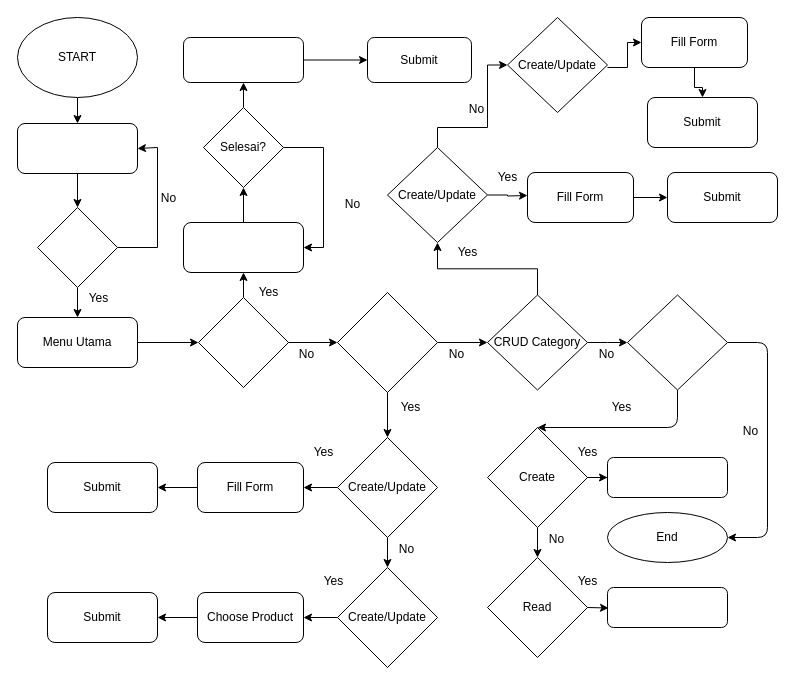
This 795x685 diagram has some shape labels left out. The centre of each missing label's shape, as x and y in pixels:
Add/Reduce Quantity: point 243,59
CR Order: point 677,342
Create Order: point 667,477
CRUD Product?: point 387,342
Pesan?: point 243,342
Pilih Pesanan: point 243,247
Read Order: point 667,607
Succes?: point 77,247
User Login: point 77,148
